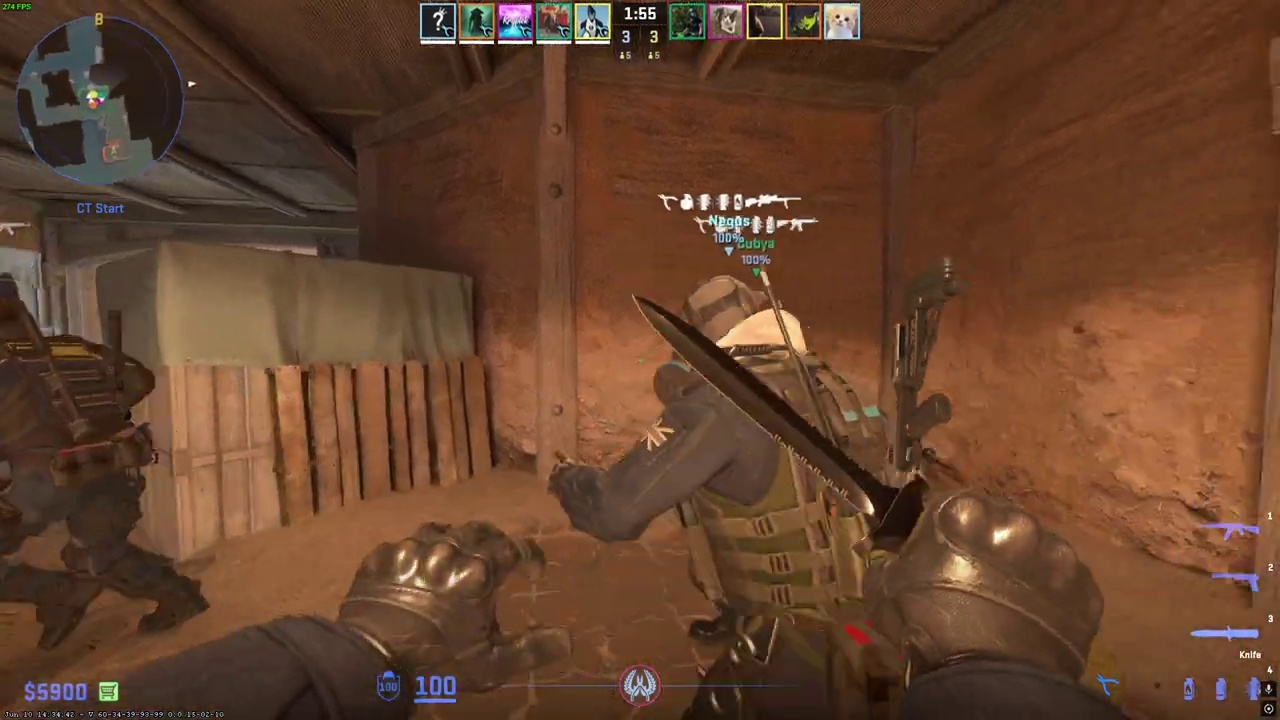CT: (575, 274, 896, 720), (0, 274, 206, 649)
